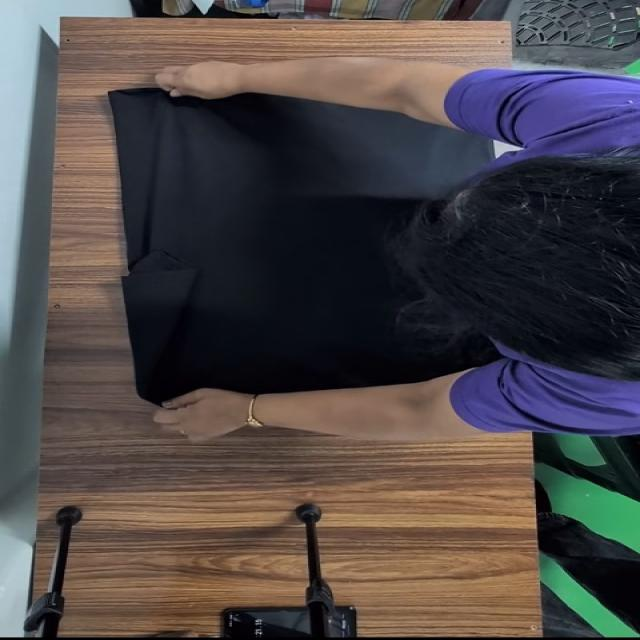new-garment: (108, 89, 491, 403)
